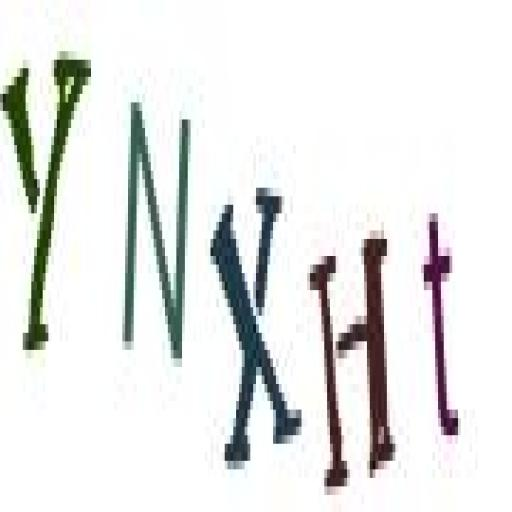H: (306, 232, 402, 498)
N: (116, 74, 197, 402)
X: (204, 178, 305, 477)
Y: (2, 38, 96, 381)
t: (418, 202, 467, 472)
